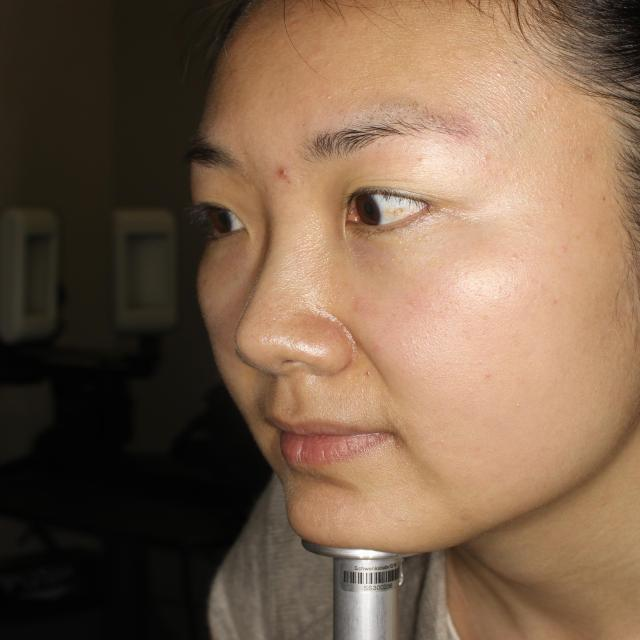acne: (273, 157, 295, 185)
